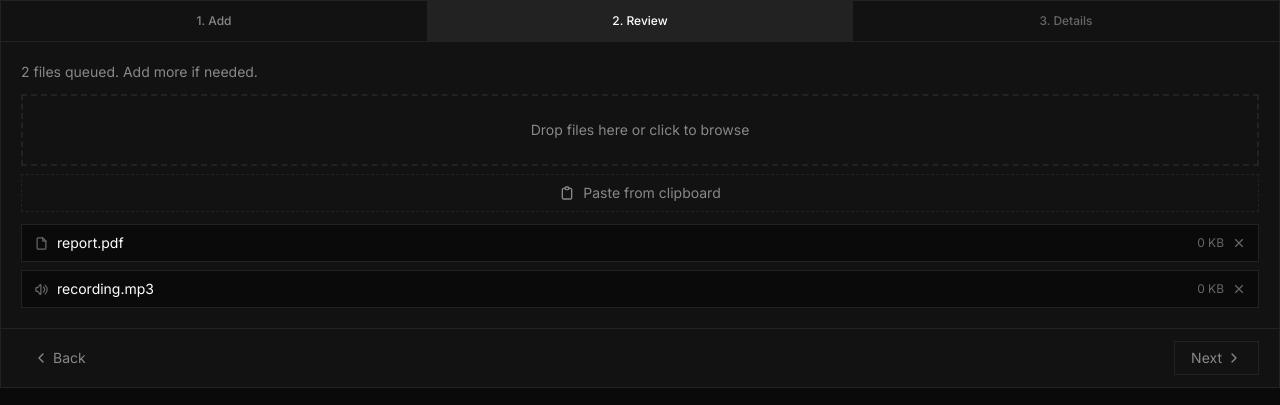
Test: EvidenceWizard › accepts a mixed multi-file batch and reports each completed item
The width and height of the screenshot is (1280, 405).
Earlier steps of the test are not shown.
Check: the element showing "Drop files here or click to browse" is shown, box [21, 94, 1259, 166]
Check: the text "2 files queued. Add more if needed." is shown, box [21, 63, 258, 80]
Click the button "Next".
click(1217, 358)  # box [1174, 341, 1259, 375]
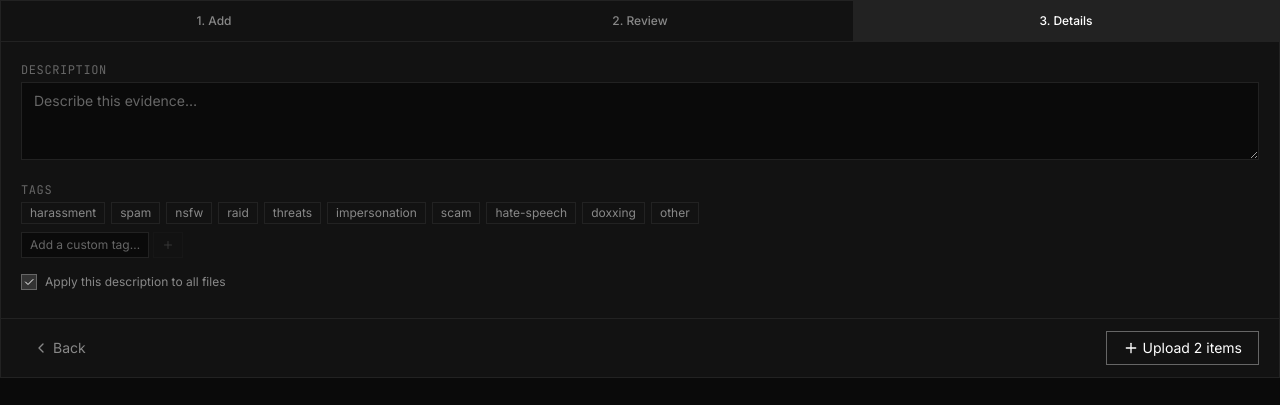
Click the button "Upload 2 items".
click(1182, 348)  # box [1106, 331, 1259, 365]
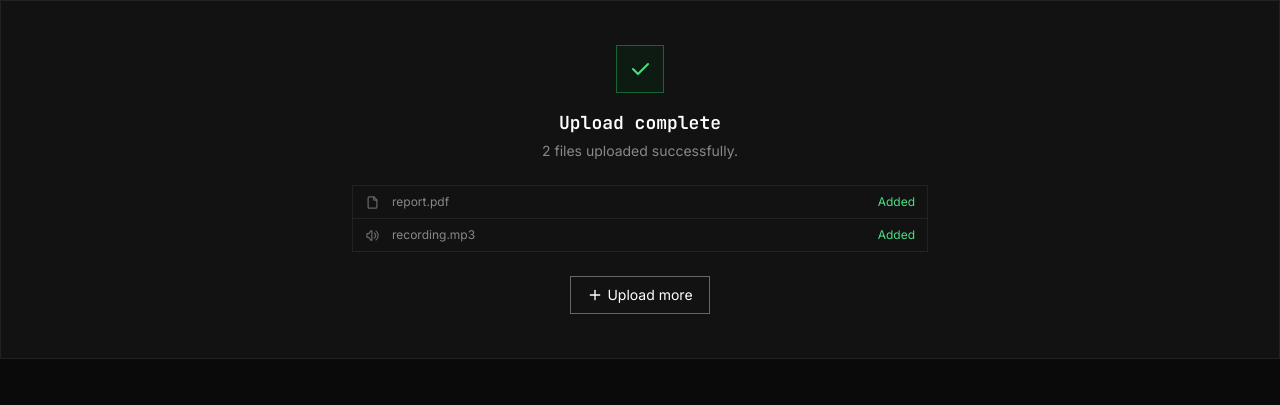
Check: the heading "Upload complete" is shown, box [559, 109, 721, 137]
Check: the text "Added" is shown 2 times, box [878, 194, 915, 210]; [878, 227, 915, 243]
